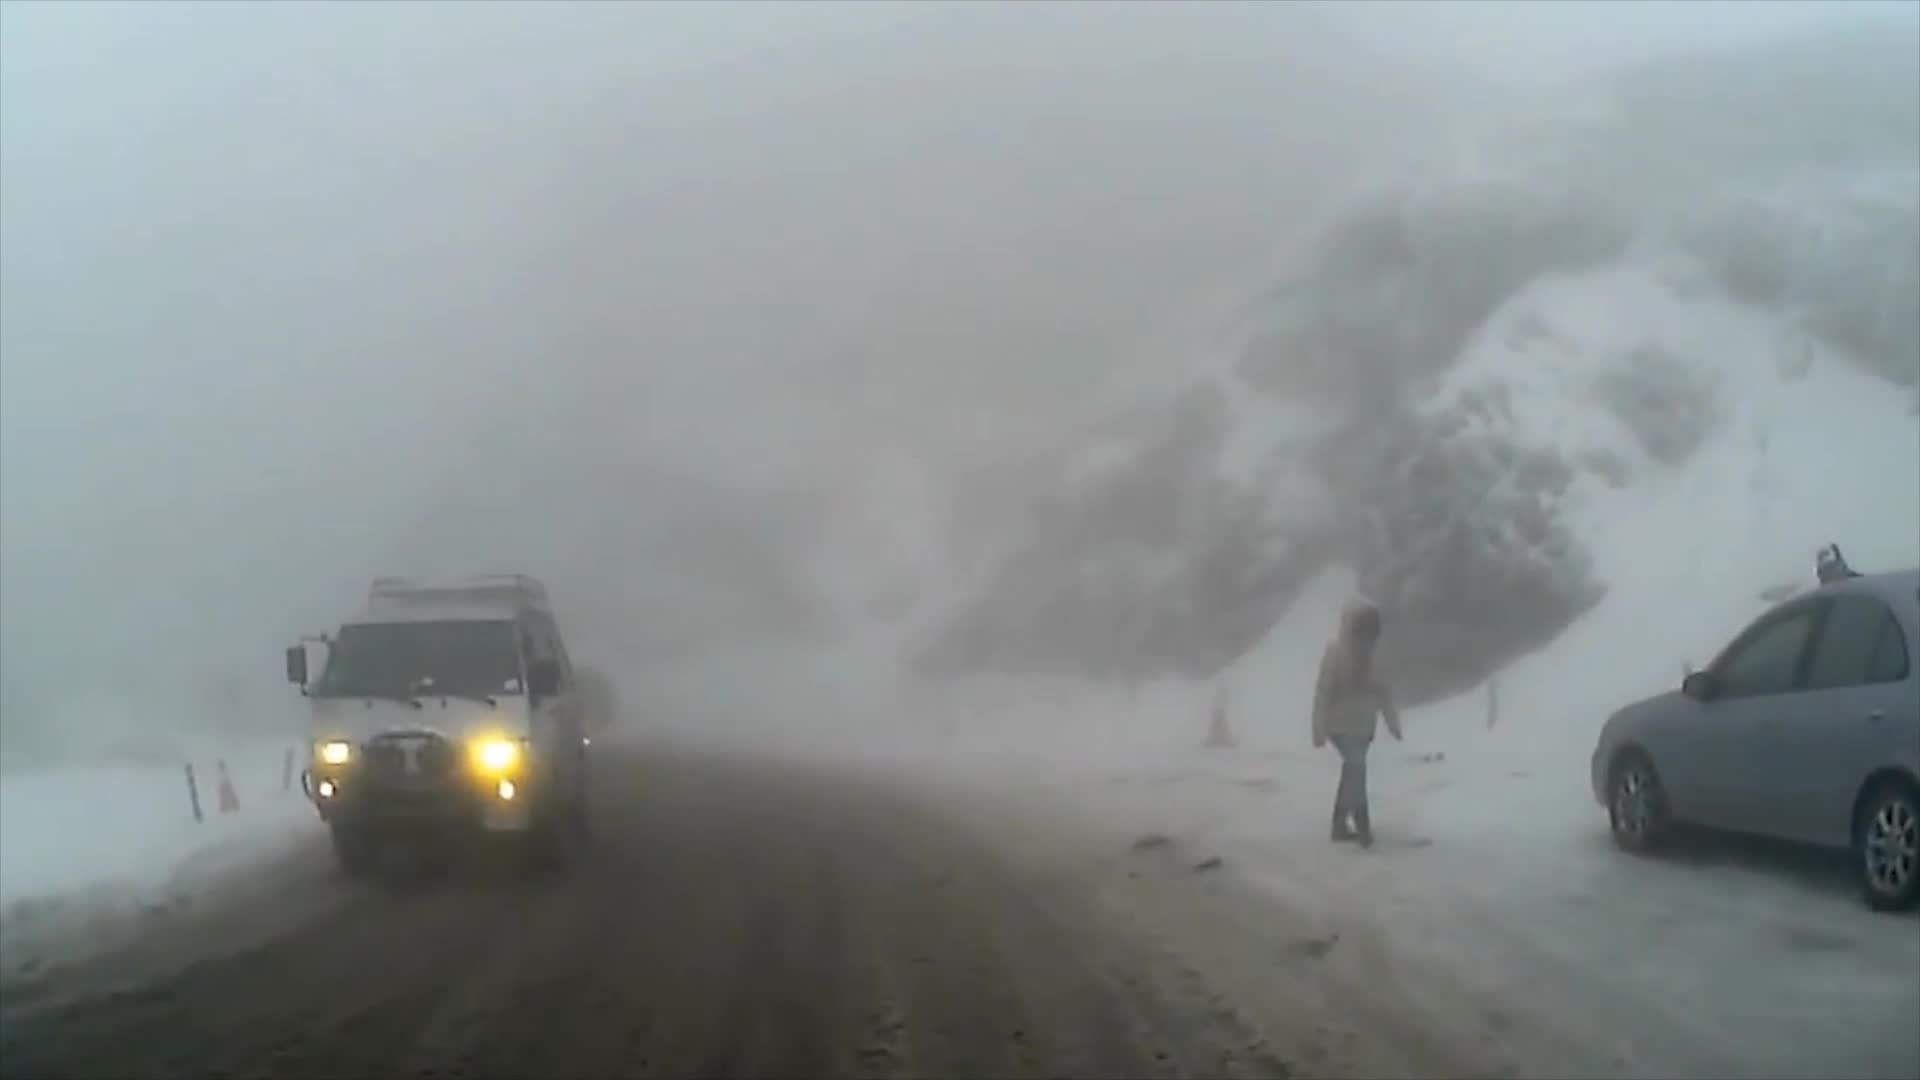pedestrian: (1314, 582, 1406, 851)
vehicle: (1587, 570, 1920, 916), (272, 566, 587, 884)
